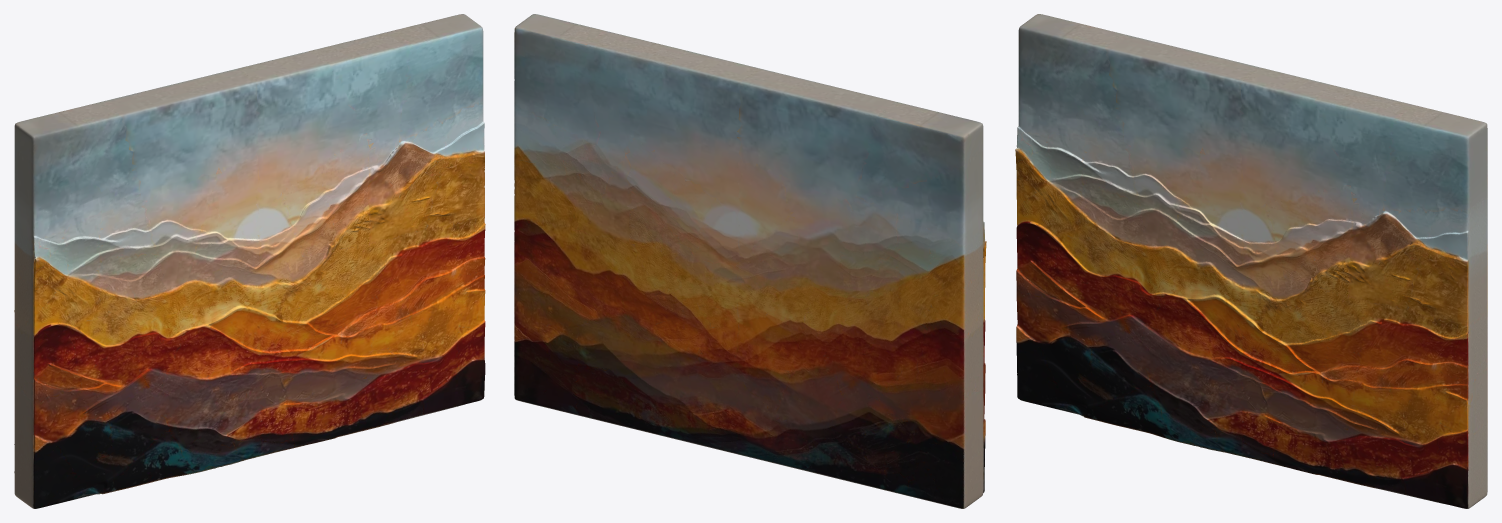
Rendered from bed-sunrise-mountain-canvas.glb.
3 views of the same model, side by side, from view 1: azimuth 30°, elevation 25°; view 2: azimuth 150°, elevation 25°; view 3: azimuth 330°, elevation 25° (orthographic).
Size of the model in its own units: 1.9 by 1.5 by 0.1717.
Materials: 1 (1 with a texture image).
